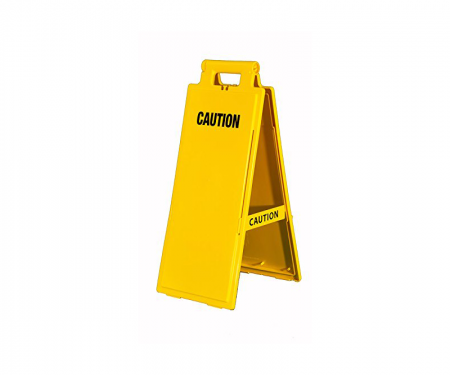wet caution sign: (166, 62, 313, 298)
